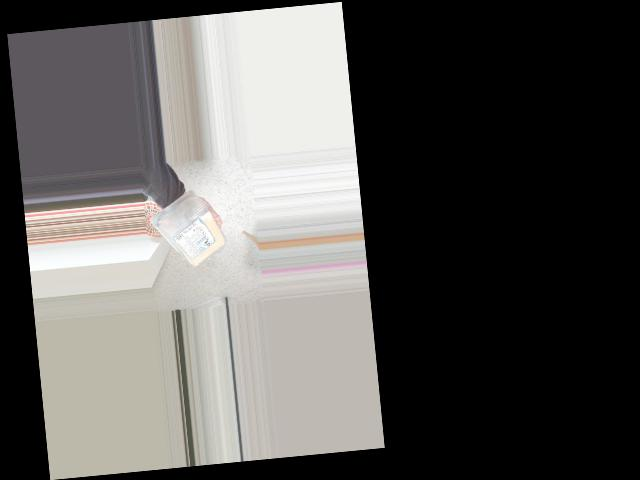cheese: (154, 197, 219, 272)
